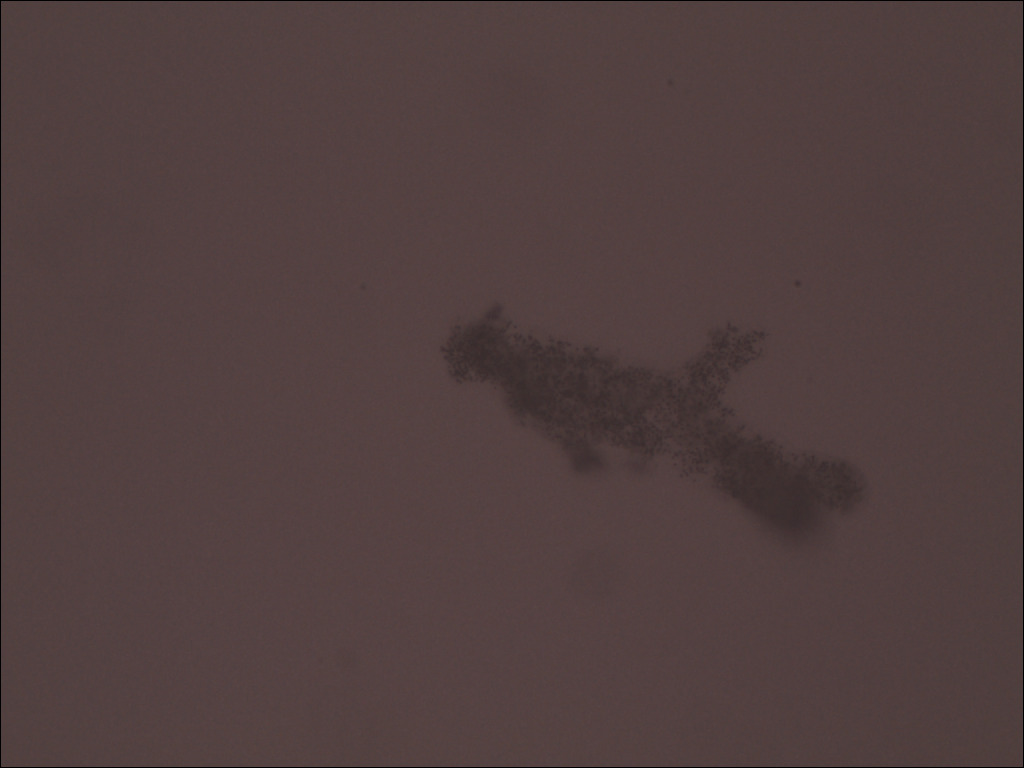amoeba: (431, 287, 890, 551)
